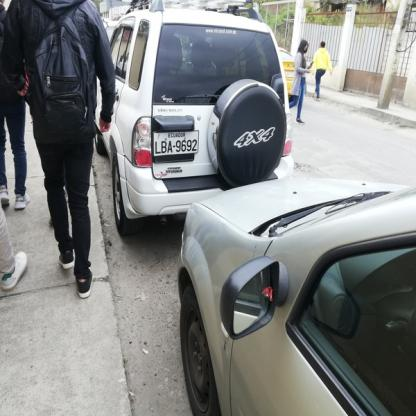Placa: (150, 132, 204, 160)
